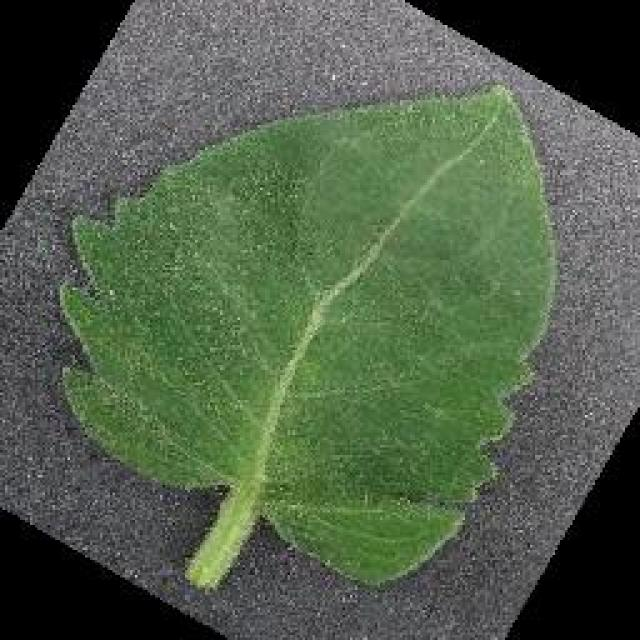Tomato___healthy: (58, 88, 562, 600)
